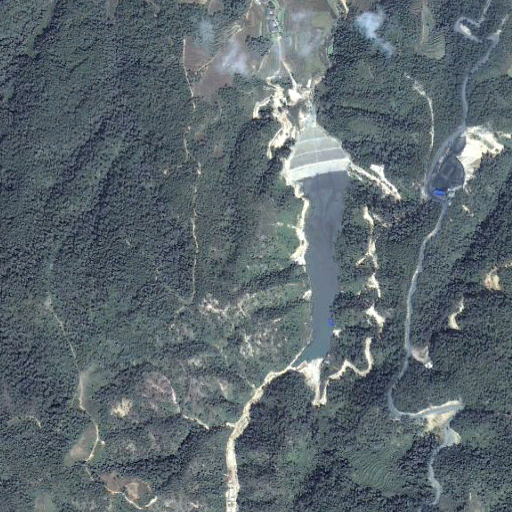tp: (287, 125, 349, 369)
